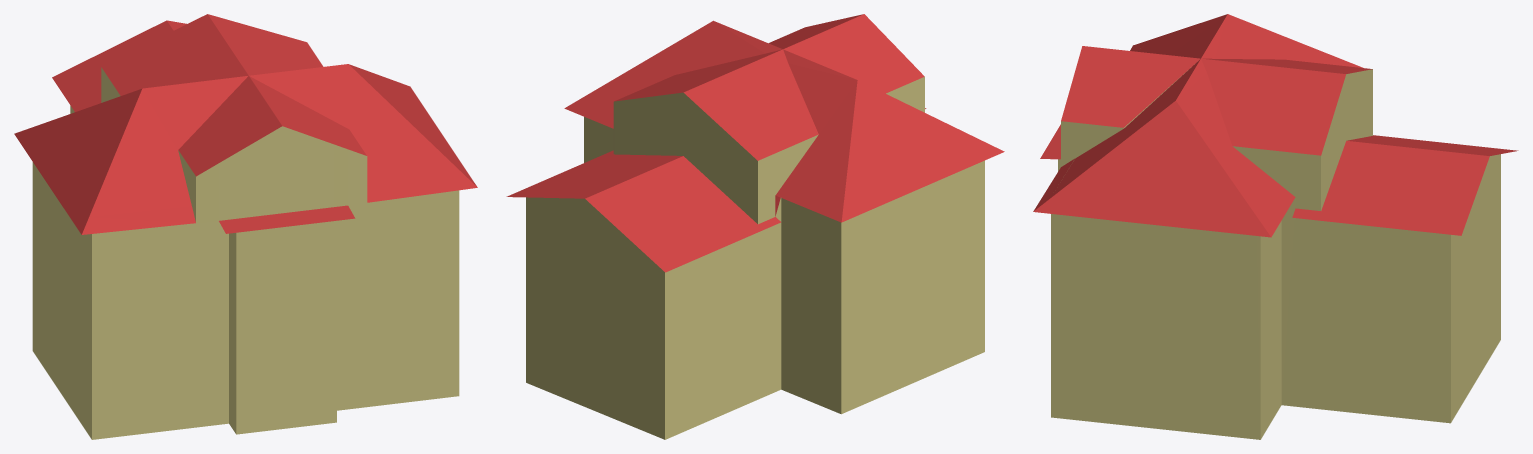
The picture shows the model from 3 angles, left to right: view 1: azimuth 30°, elevation 25°; view 2: azimuth 150°, elevation 25°; view 3: azimuth 270°, elevation 25°; orthographic projection. The views are drawn at different scales.
Parts seen in each view (by area): view 1: group_9, group_3, group_7, group_4, group_6, group_8; view 2: group_9, group_3, group_5, group_4, group_6, group_8, group_7; view 3: group_9, group_3, group_4, group_6, group_5, group_8, group_7.
Boxes of the visible parts, x1=… form: group_9: x1=32, y1=105, x2=459, y2=439; group_3: x1=14, y1=20, x2=477, y2=234; group_7: x1=178, y1=126, x2=367, y2=223; group_4: x1=101, y1=14, x2=323, y2=95; group_6: x1=178, y1=76, x2=366, y2=176; group_8: x1=18, y1=21, x2=476, y2=233; group_9: x1=526, y1=117, x2=984, y2=439; group_3: x1=506, y1=20, x2=1004, y2=272; group_5: x1=613, y1=92, x2=818, y2=223; group_4: x1=614, y1=49, x2=818, y2=160; group_6: x1=769, y1=14, x2=924, y2=93; group_8: x1=514, y1=99, x2=1003, y2=271; group_7: x1=886, y1=76, x2=924, y2=112; group_9: x1=1051, y1=154, x2=1500, y2=439; group_3: x1=1033, y1=14, x2=1518, y2=237; group_4: x1=1201, y1=58, x2=1372, y2=155; group_6: x1=1061, y1=46, x2=1200, y2=127; group_5: x1=1232, y1=69, x2=1372, y2=210; group_8: x1=1034, y1=41, x2=1512, y2=236; group_7: x1=1061, y1=64, x2=1194, y2=166.
Size of the model in its own units: 15.37 by 16.43 by 10.97.
